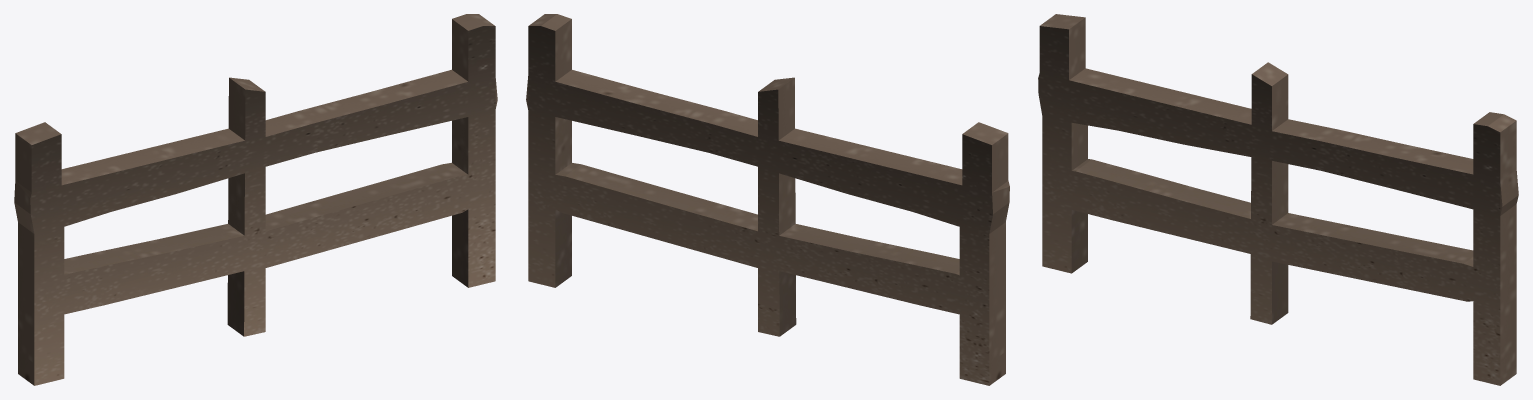
File: Valla.fbx
3 renders of one model, left to right at view 1: azimuth 30°, elevation 25°; view 2: azimuth 150°, elevation 25°; view 3: azimuth 330°, elevation 25°, orthographic.
Parts seen in each view (by area): view 1: Plane002; view 2: Plane002; view 3: Plane002.
Part boxes in pixels (bbox=[...]): Plane002: bbox=[14, 14, 497, 385]; Plane002: bbox=[526, 14, 1009, 385]; Plane002: bbox=[1038, 14, 1518, 385].
Bounding box in the file's own units: 40.92 × 21.62 × 2.5.
